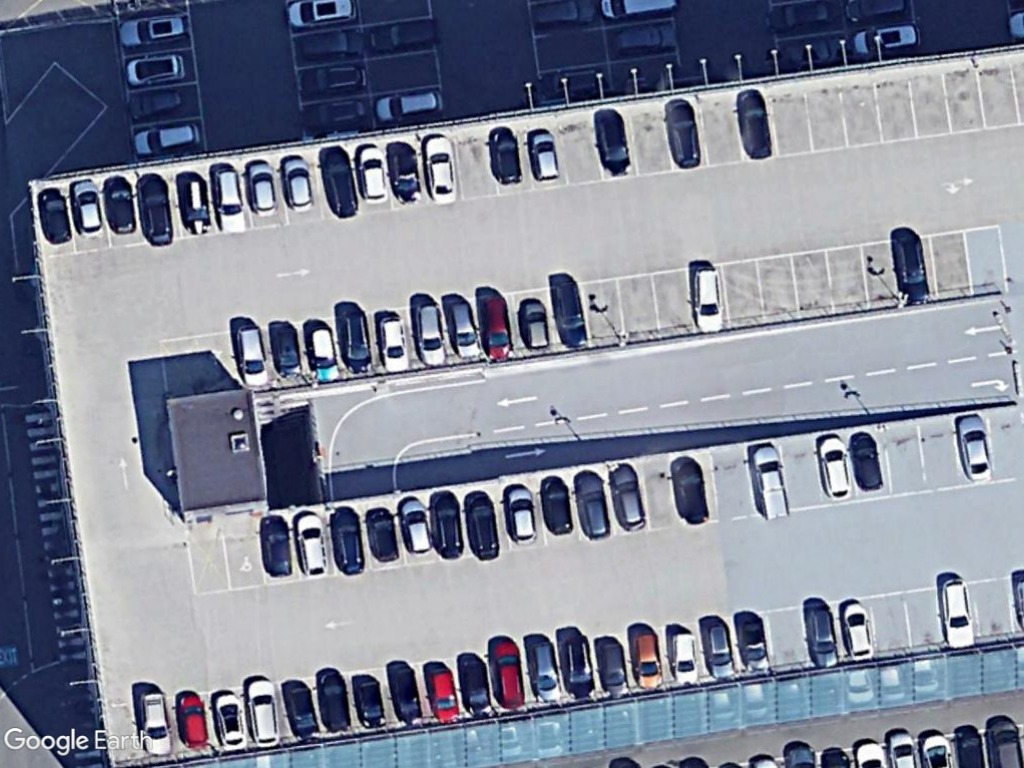car: (932, 568, 982, 656), (484, 631, 532, 716), (682, 256, 731, 338), (586, 104, 636, 184), (458, 487, 509, 565), (315, 143, 364, 223), (600, 457, 649, 537), (549, 270, 595, 355), (731, 85, 780, 164), (131, 684, 180, 762), (659, 91, 705, 174), (887, 227, 933, 310), (127, 113, 206, 161), (291, 504, 337, 586), (370, 83, 450, 130), (813, 431, 861, 508), (570, 465, 616, 545), (111, 8, 190, 54), (133, 171, 179, 250), (123, 41, 195, 91), (242, 674, 286, 755), (418, 657, 466, 729), (405, 296, 451, 371), (428, 488, 471, 568), (519, 637, 566, 710), (417, 127, 460, 206), (952, 408, 995, 487), (801, 600, 847, 673), (229, 316, 272, 394), (476, 290, 520, 366), (669, 455, 715, 527), (334, 302, 375, 382), (207, 160, 250, 236), (453, 647, 496, 723), (557, 629, 599, 706), (385, 656, 427, 733), (207, 686, 253, 755), (834, 596, 879, 666), (240, 154, 285, 223), (351, 138, 394, 210), (256, 511, 298, 584), (279, 679, 324, 747), (64, 174, 107, 245), (328, 504, 368, 580), (626, 624, 668, 696), (375, 308, 418, 378), (361, 502, 405, 570), (481, 123, 526, 189), (592, 636, 636, 703), (170, 689, 213, 757), (394, 492, 435, 563), (523, 121, 565, 190), (537, 472, 577, 544), (98, 174, 140, 242), (500, 480, 540, 551), (348, 669, 392, 733), (315, 667, 355, 737), (734, 611, 774, 680), (304, 319, 342, 391), (699, 614, 738, 684), (278, 151, 318, 219), (444, 295, 484, 363), (664, 624, 705, 690), (849, 429, 887, 497), (34, 186, 74, 250), (516, 296, 555, 358)
other: (742, 441, 794, 522)
